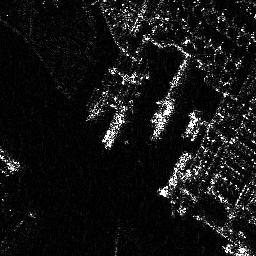ship: (158, 150, 191, 196), (150, 97, 177, 139), (104, 111, 124, 148), (180, 109, 200, 138)
